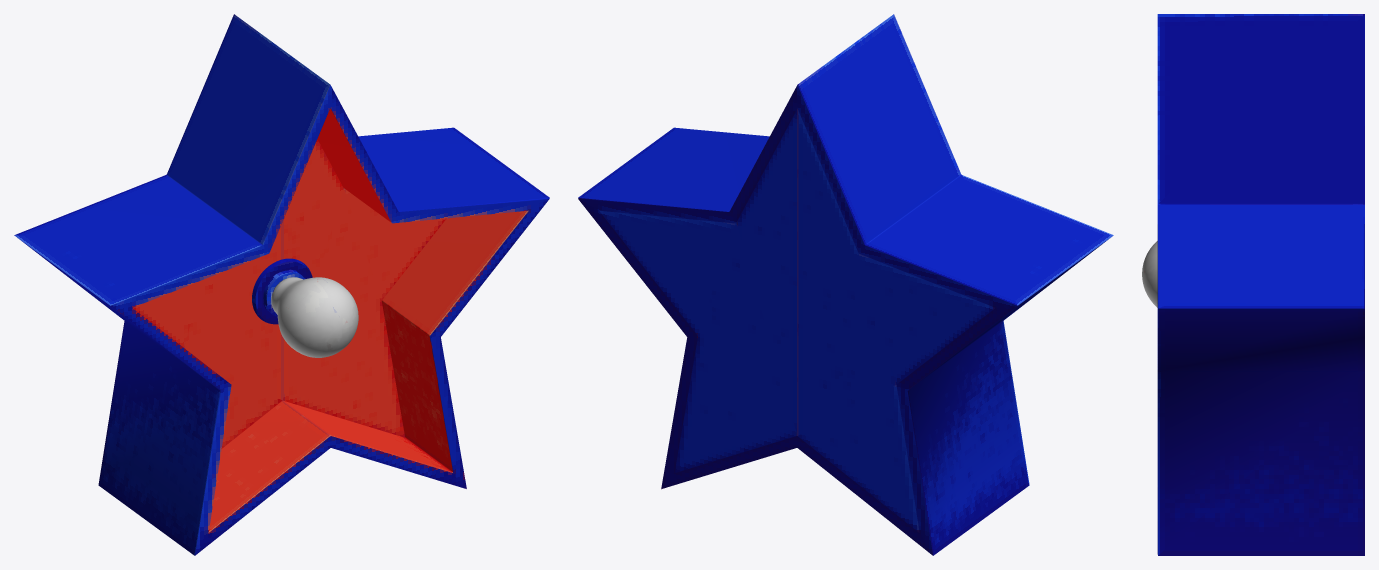
File: star_lamp.glb
3 views of the same model, side by side, from view 1: azimuth 30°, elevation 25°; view 2: azimuth 150°, elevation 25°; view 3: azimuth 270°, elevation 25° (orthographic). The views are drawn at different scales.
Visible parts, largest first — view 1: mesh; view 2: mesh; view 3: mesh.
Part boxes in pixels (x1,y1,x2,y2): mesh: (14,14,549,555); mesh: (578,14,1113,555); mesh: (1142,14,1364,555).
Bounding box in the file's own units: 1.57 × 1.5 × 0.6439.
1 material, 1 textured.
